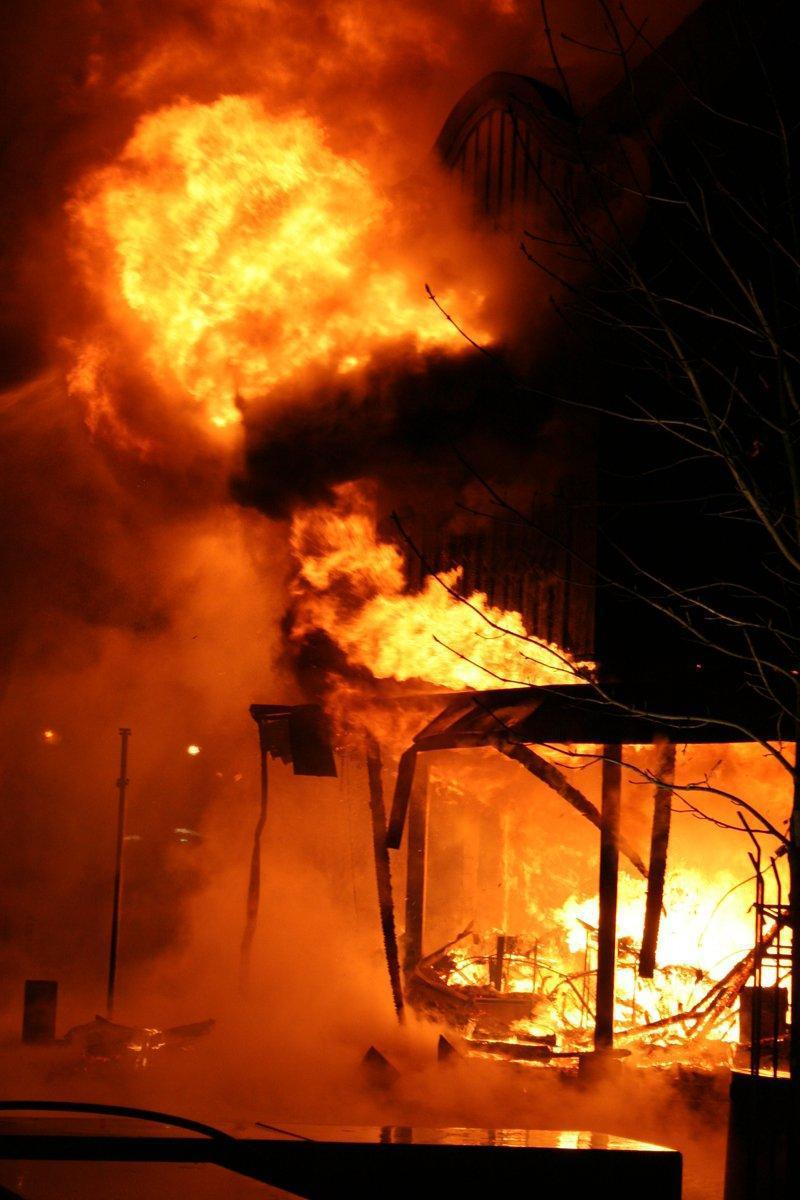fire: (48, 90, 502, 438), (433, 847, 789, 1088), (263, 473, 604, 697)
